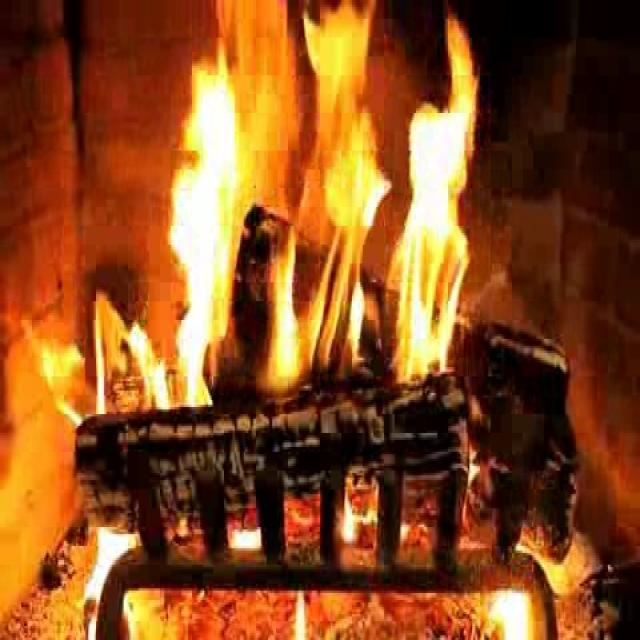fire: (160, 22, 469, 388)
